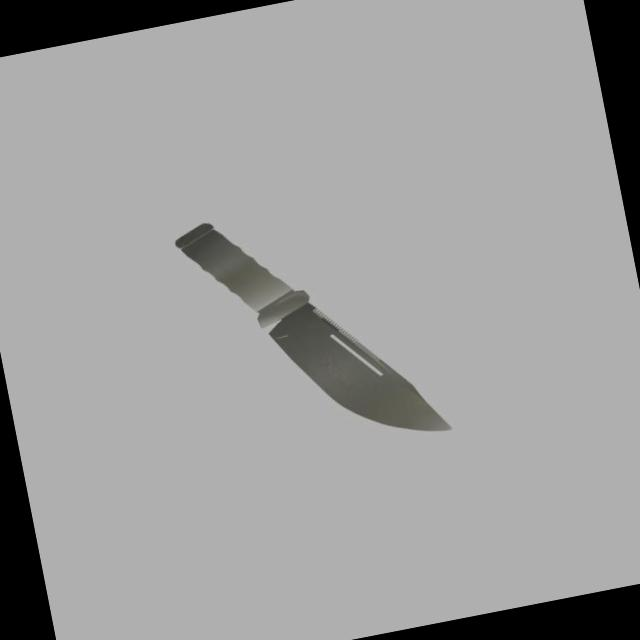knife: (172, 206, 308, 336)
